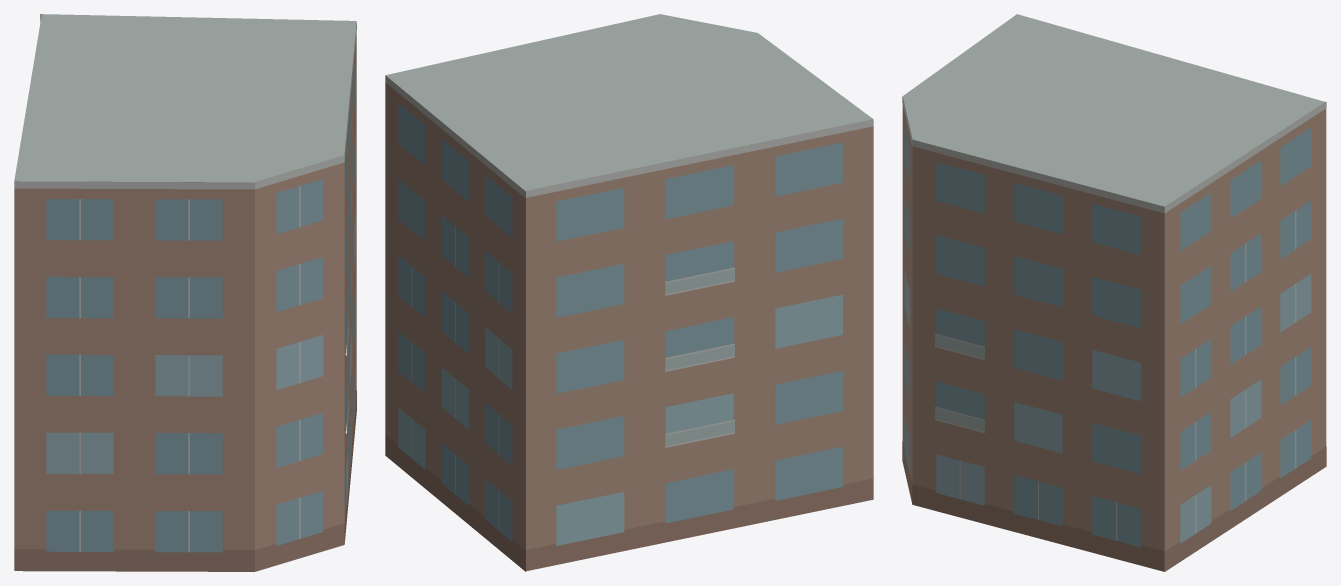
The model's file is survey-upis-32852029.glb.
The picture shows the model from 3 angles, left to right: view 1: azimuth 30°, elevation 25°; view 2: azimuth 150°, elevation 25°; view 3: azimuth 270°, elevation 25°; orthographic projection. The views are drawn at different scales.
Parts seen in each view (by area): view 1: survey-upis-32852029.tmp; view 2: survey-upis-32852029.tmp; view 3: survey-upis-32852029.tmp.
Part boxes in pixels (x1,y1,x2,y2): survey-upis-32852029.tmp: (14,14,356,571); survey-upis-32852029.tmp: (385,14,873,571); survey-upis-32852029.tmp: (902,14,1326,571).
Bounding box in the file's own units: 15.06 × 13.3 × 14.
